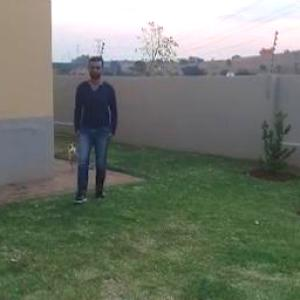follow: (65, 50, 114, 210)
